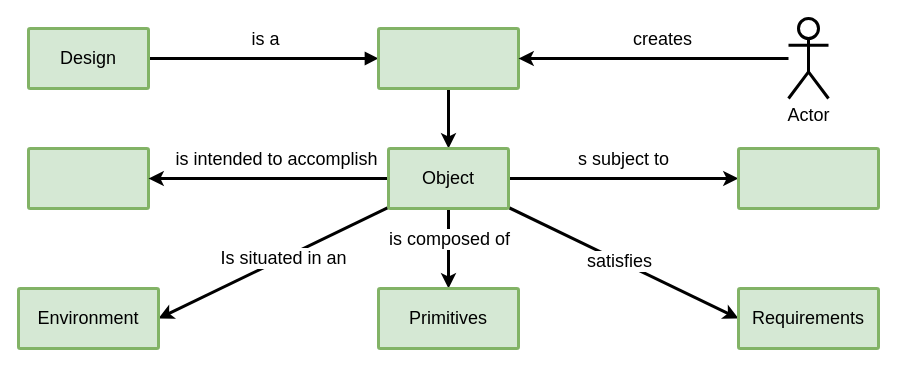
The diagram is 897 pixels wide and 367 high, and some of its shapes have lost their labels. The shapes that lost their labels are listed below. From the top down, each one's centre as x and y in pixels, then its label:
At pixel 448 58: "Specification".
At pixel 88 178: "Goals".
At pixel 808 178: "Constraints".
